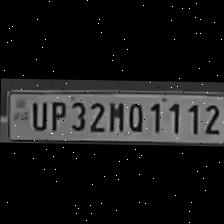1: (144, 100, 164, 134), (182, 100, 200, 135), (164, 100, 182, 134)
2: (199, 100, 221, 134), (86, 97, 104, 132)
3: (66, 98, 86, 132)
M: (105, 98, 125, 132)
P: (46, 97, 66, 130)
Q: (125, 100, 145, 134)
U: (26, 97, 48, 130)
